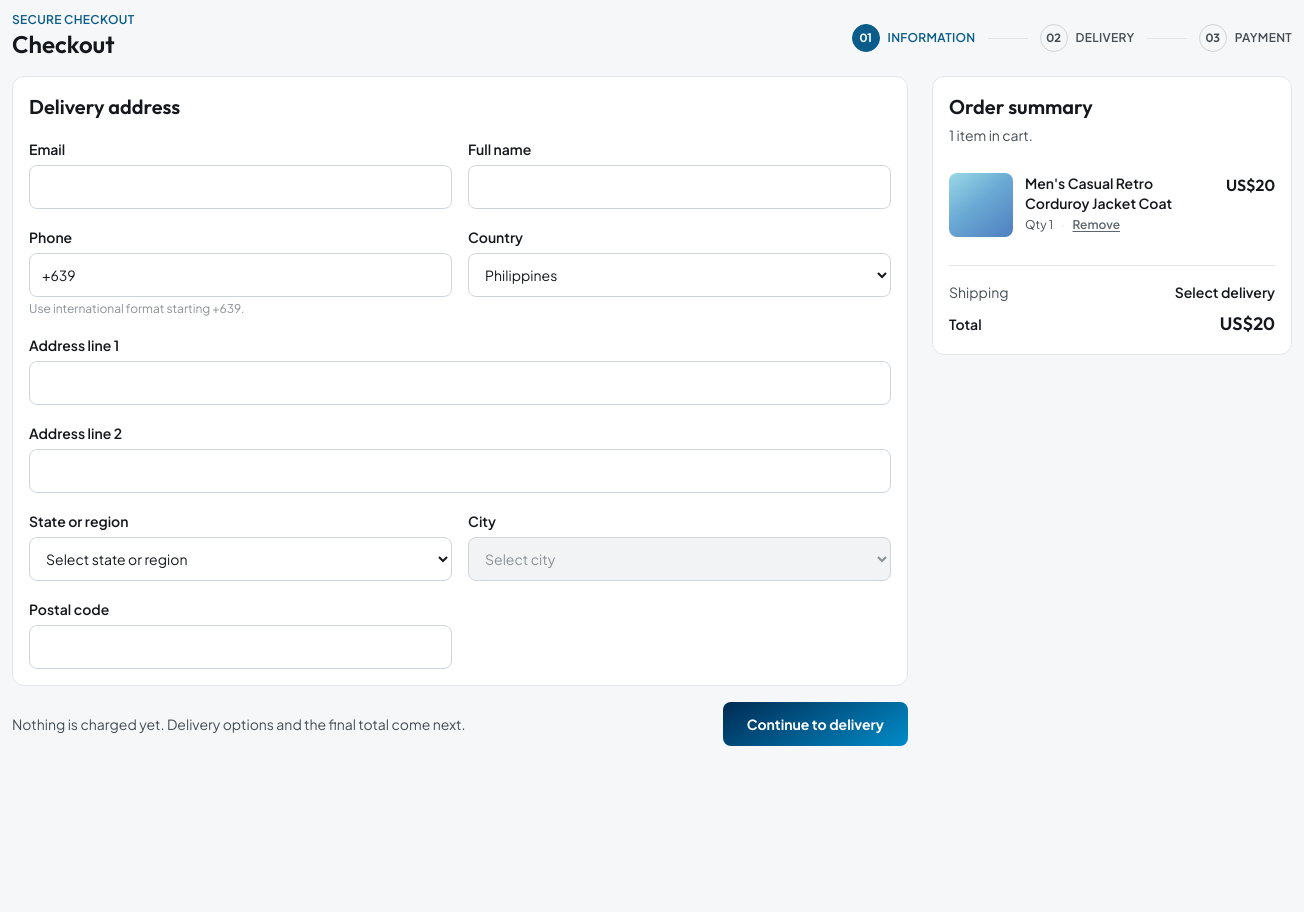
checkout flow across routes › quotes the address, then moves to the delivery route
This screenshot has width=1304, height=912.
Step 1. Type "buyer@example.com" into the field labelled "Email" → (240, 187), box [29,165,452,209]
Step 2. Type "Buyer Example" into the field labelled "Full name" → (680, 187), box [468,165,891,209]
Step 3. Replace the text in the field labelled "Phone" with "+639171234567" → (240, 275), box [29,253,452,297]
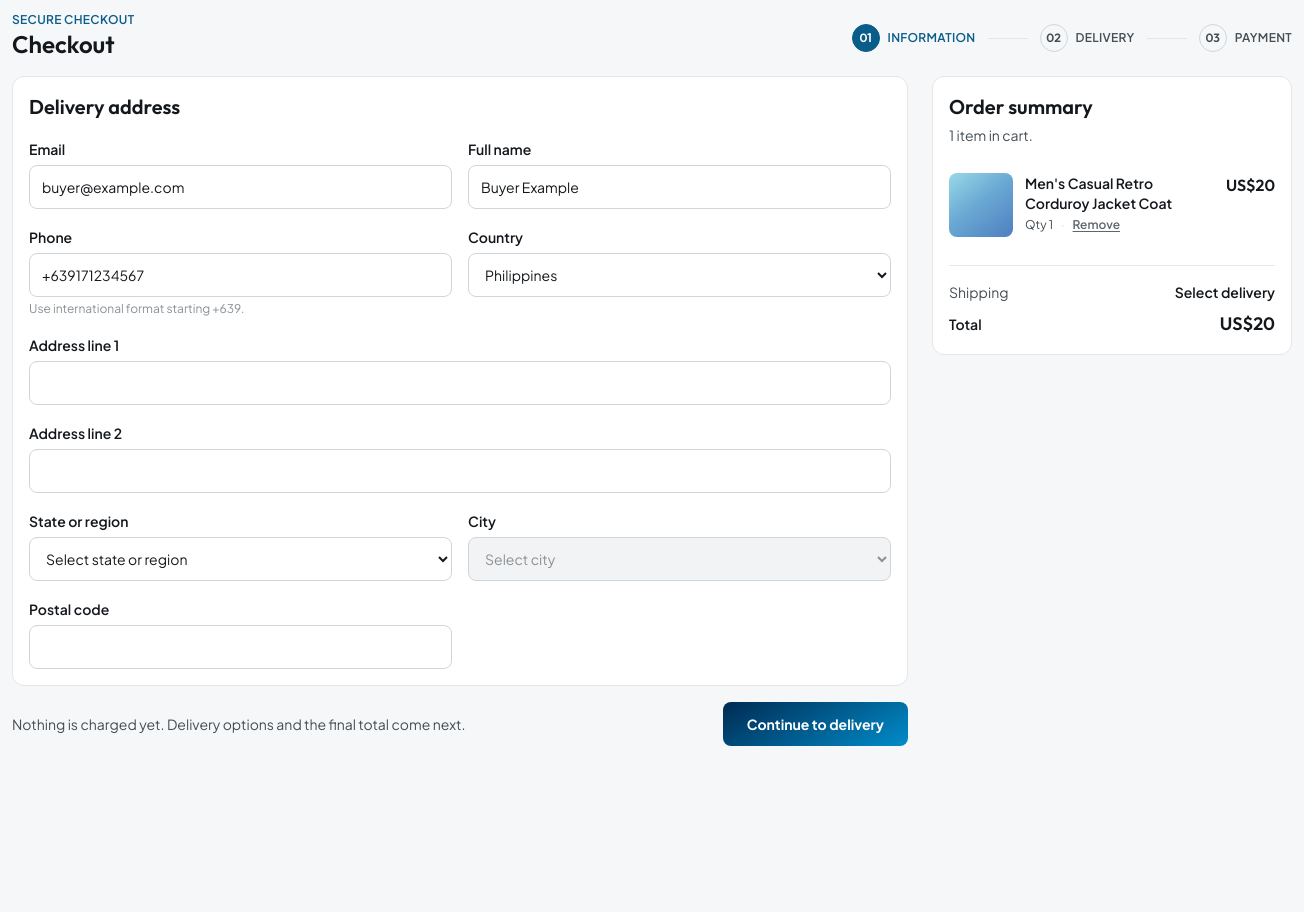
Step 4. Type "123 Main Street" into the field labelled "Address line 1" → (460, 383), box [29,361,891,405]
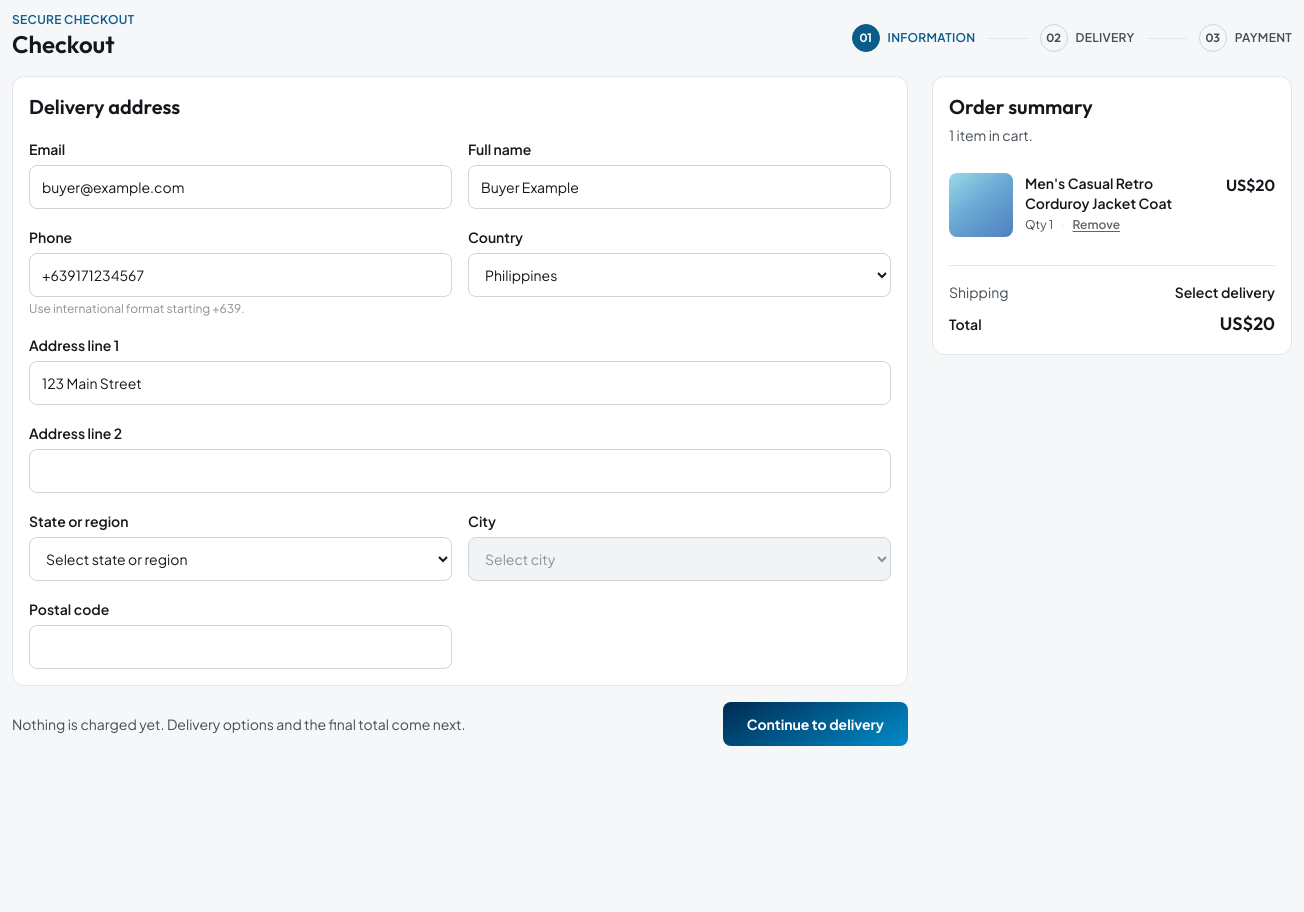
Step 5. Select "National Capital Region (NCR)" in the dropdown labelled "State or region" → (240, 559), box [29,537,452,581]
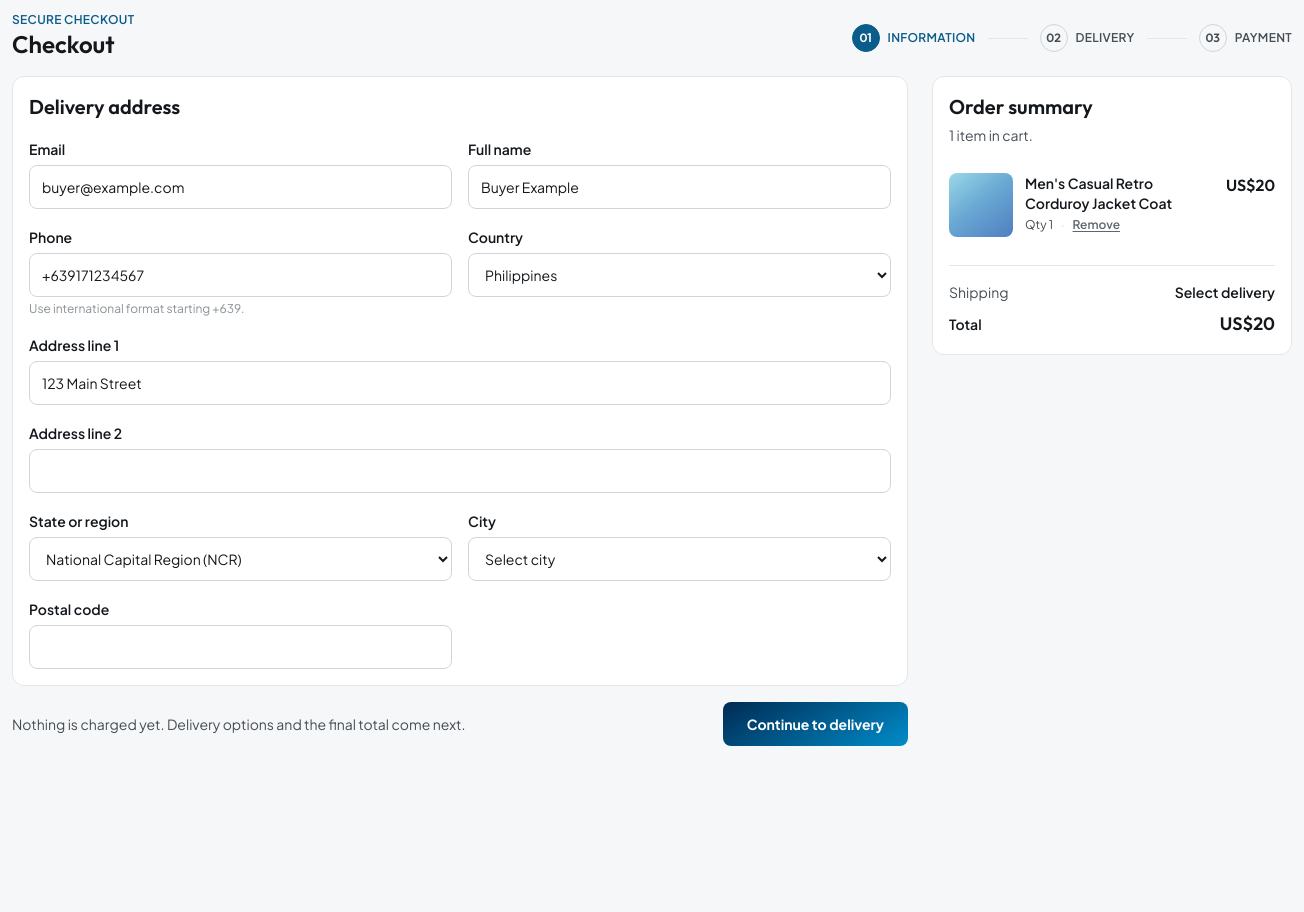
Step 6. Select "Manila" in the dropdown labelled "City" → (680, 559), box [468,537,891,581]
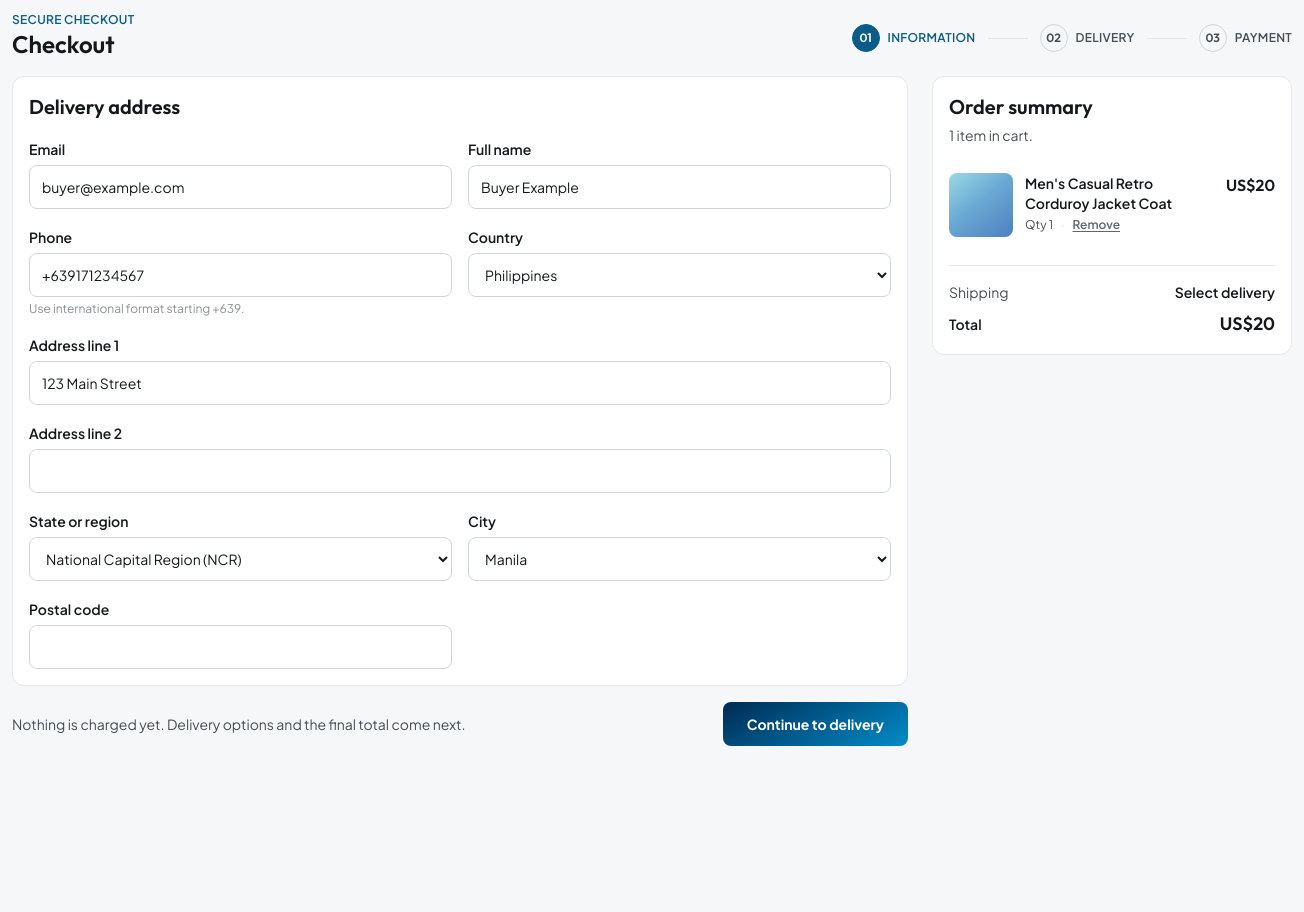
Step 7. Type "1000" into the field labelled "Postal code" → (240, 647), box [29,625,452,669]
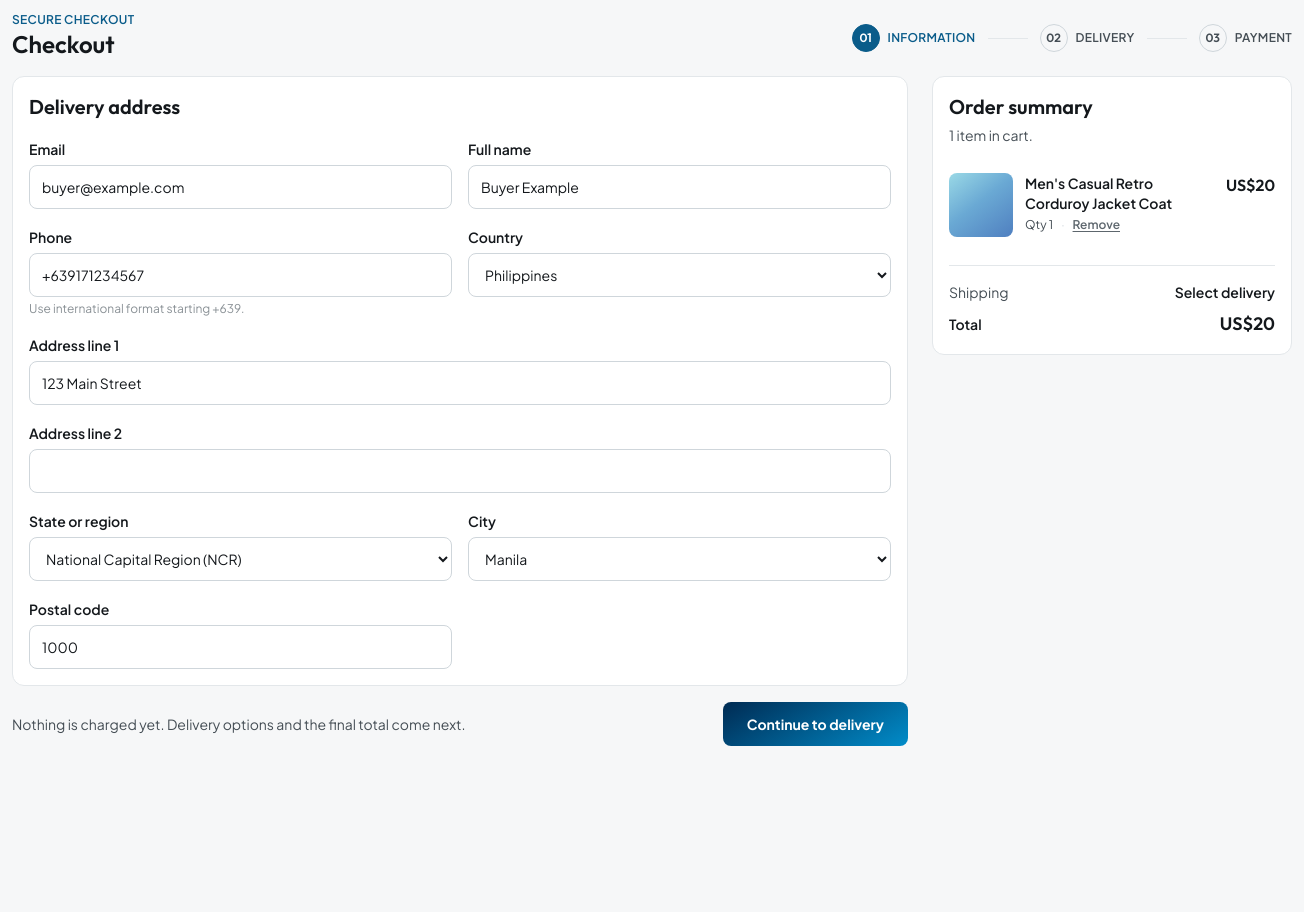
Step 8. Click the button "Continue to delivery" → (815, 724), box [723,702,908,746]
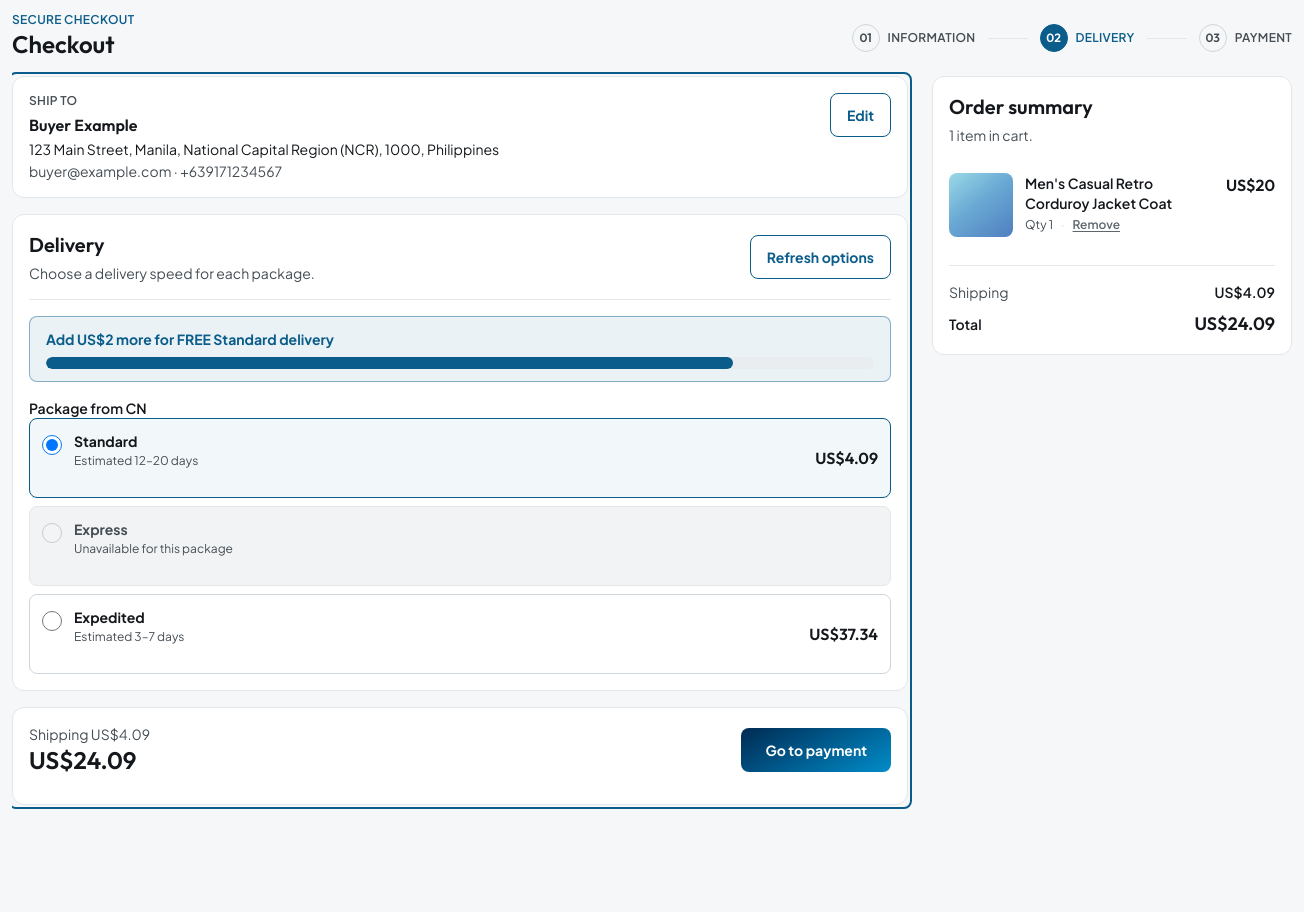
Now the text "123 Main Street" is shown, box [29,140,499,158]
Now the label labelled "Address line 1" is gone
